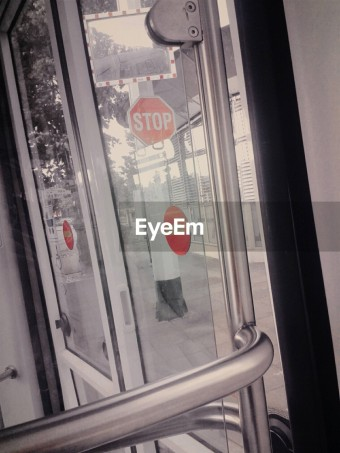SS: (127, 91, 179, 148)
